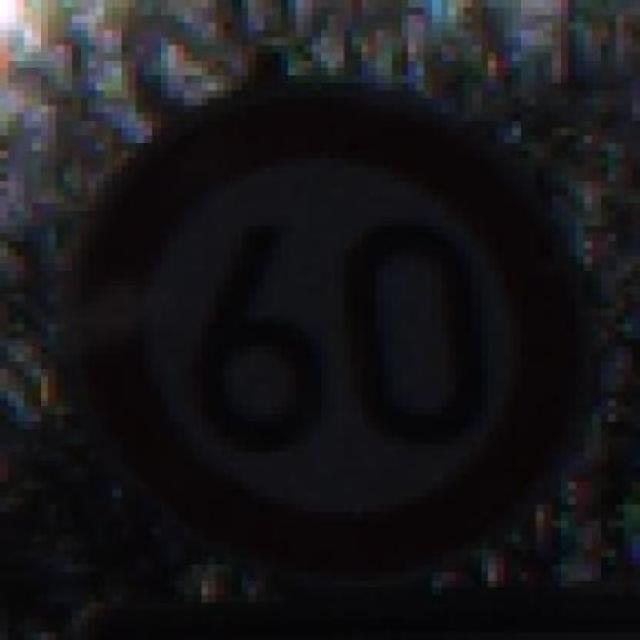forb_speed_over_60: (75, 91, 583, 580)
